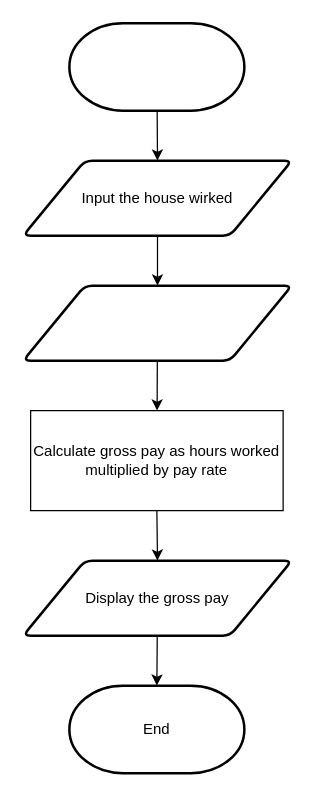
The diagram is 314 pixels wide and 795 high, and some of its shapes have lost their labels. The centre of each missing label's shape, as x and y in pixels:
Input the hourly pay rate: (156,322)
Start: (156,66)
